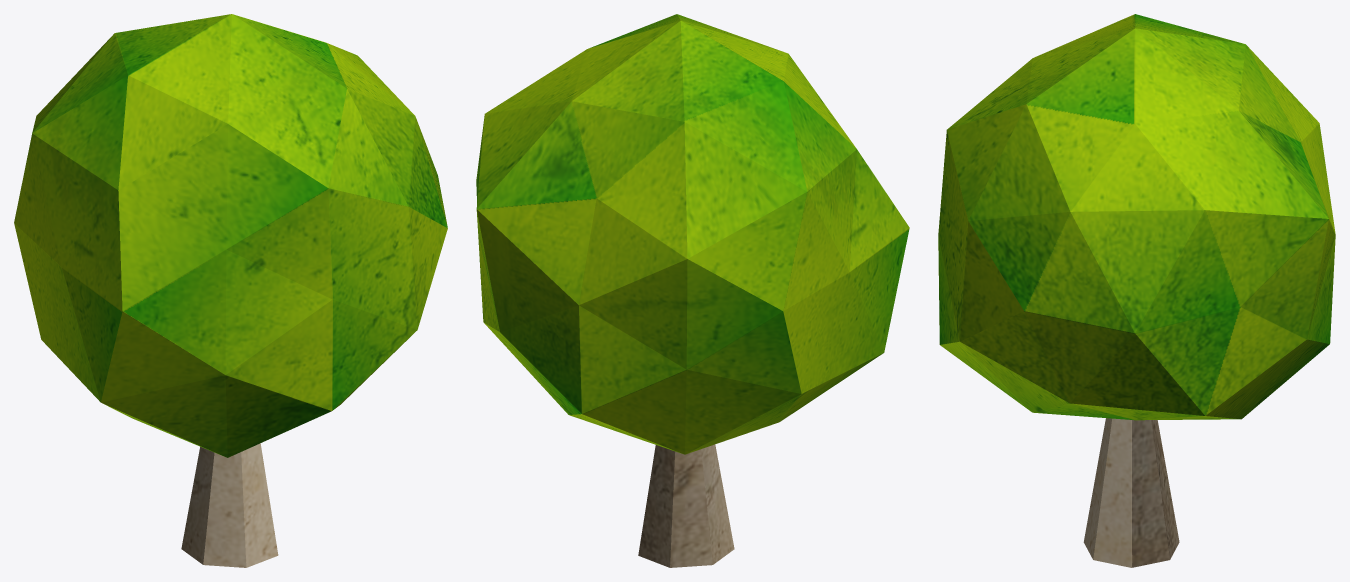
Rendered from laubbaum3_final.fbx.
The picture shows the model from 3 angles, left to right: view 1: azimuth 30°, elevation 25°; view 2: azimuth 150°, elevation 25°; view 3: azimuth 270°, elevation 25°; orthographic projection. The views are drawn at different scales.
Visible parts, largest first — view 1: laubbaum3_final_1; view 2: laubbaum3_final_1; view 3: laubbaum3_final_1.
Part boxes in pixels (x1=…): laubbaum3_final_1: x1=14, y1=14, x2=447, y2=567; laubbaum3_final_1: x1=476, y1=14, x2=909, y2=567; laubbaum3_final_1: x1=938, y1=14, x2=1335, y2=567.
Size of the model in its own units: 547 by 739 by 512.
